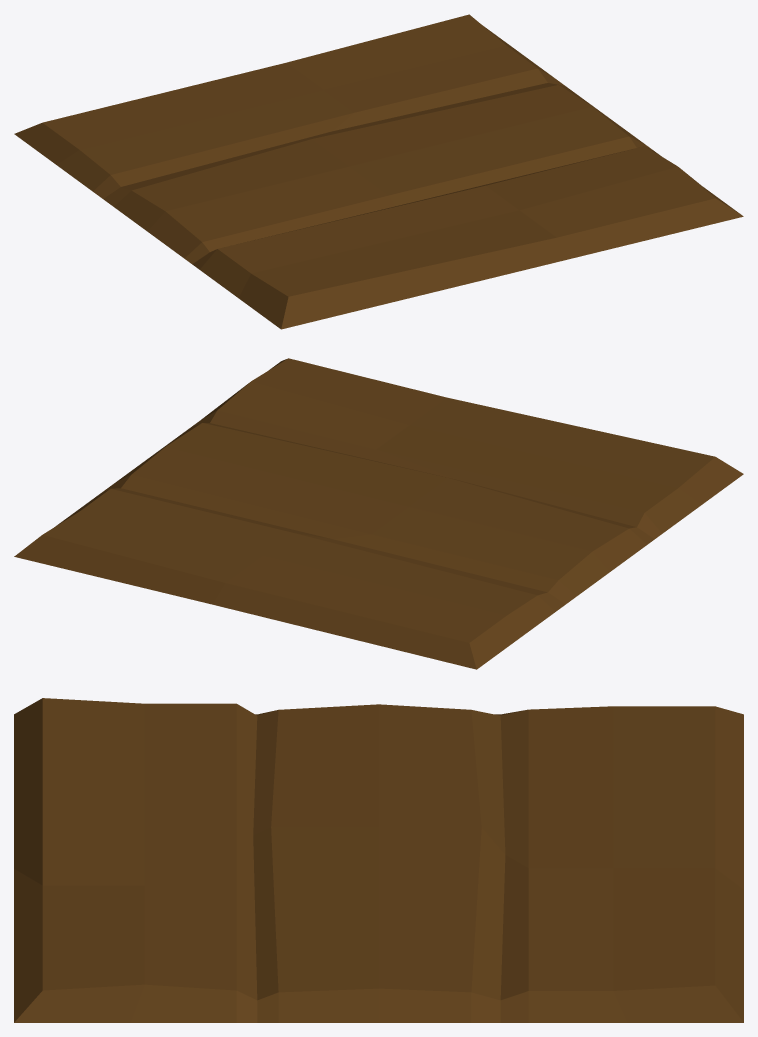
Rendered from Soil.fbx.
3 renders of one model, top to bottom at view 1: azimuth 30°, elevation 25°; view 2: azimuth 150°, elevation 25°; view 3: azimuth 270°, elevation 25°, orthographic. The views are drawn at different scales.
Parts seen in each view (by area): view 1: Cube.023; view 2: Cube.023; view 3: Cube.023.
Part boxes in pixels (x1=…): Cube.023: x1=14, y1=14, x2=743, y2=329; Cube.023: x1=14, y1=358, x2=743, y2=669; Cube.023: x1=14, y1=698, x2=743, y2=1022.
Size of the model in its own units: 200 by 8.55 by 200.
Materials: 1 (1 with a texture image).
